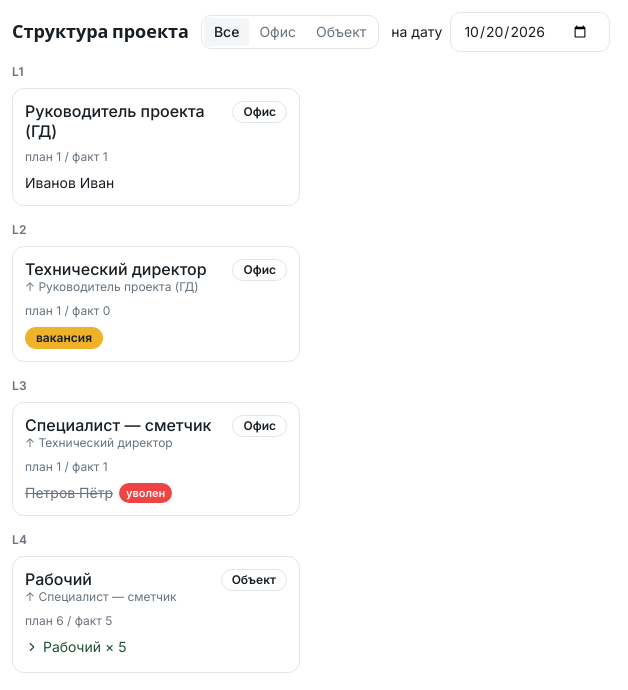
Test: ProjectStructureSection › фильтр «Объект» оставляет только места на объекте
Expected: the element with test id "level-1" is shown, [12,64,300,206]
Click the button "Объект".
click(341, 32)  # box [306,18,376,46]
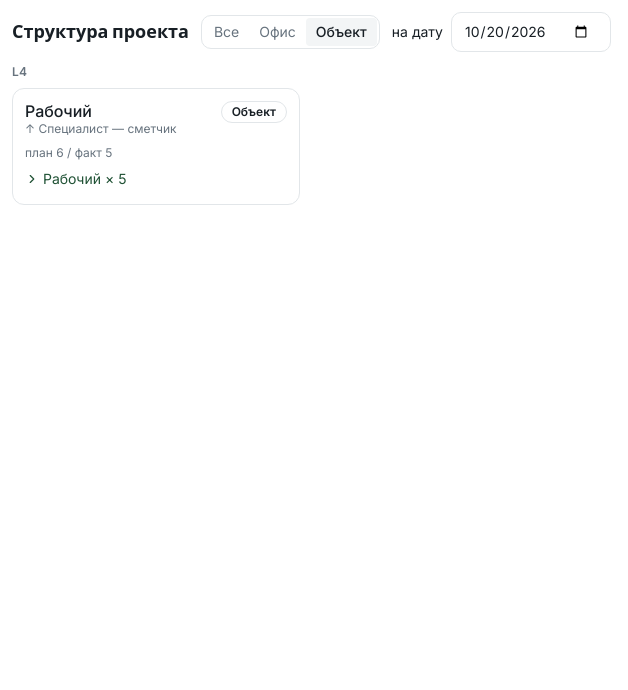
Expected: the element with test id "level-4" is shown, [12,64,300,205]
Expected: the element with test id "level-1" is gone
Click the button "Офис".
click(278, 32)  # box [249,18,306,46]
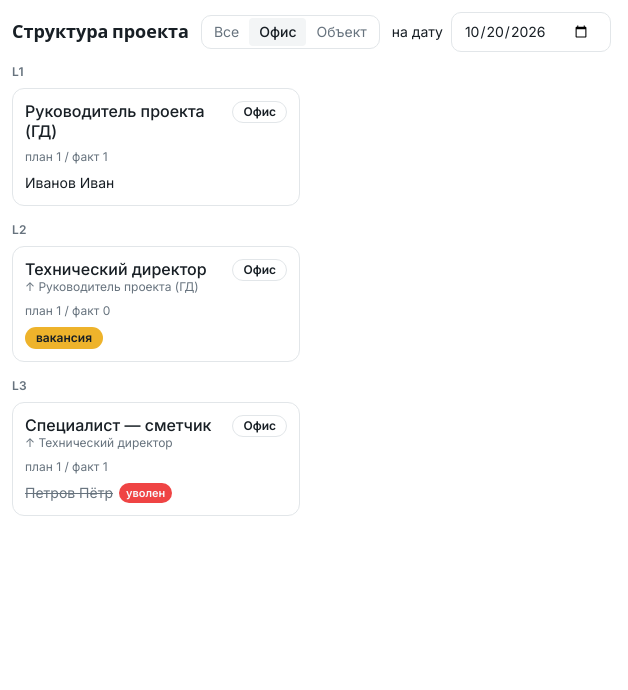
Expected: the element with test id "level-4" is gone
